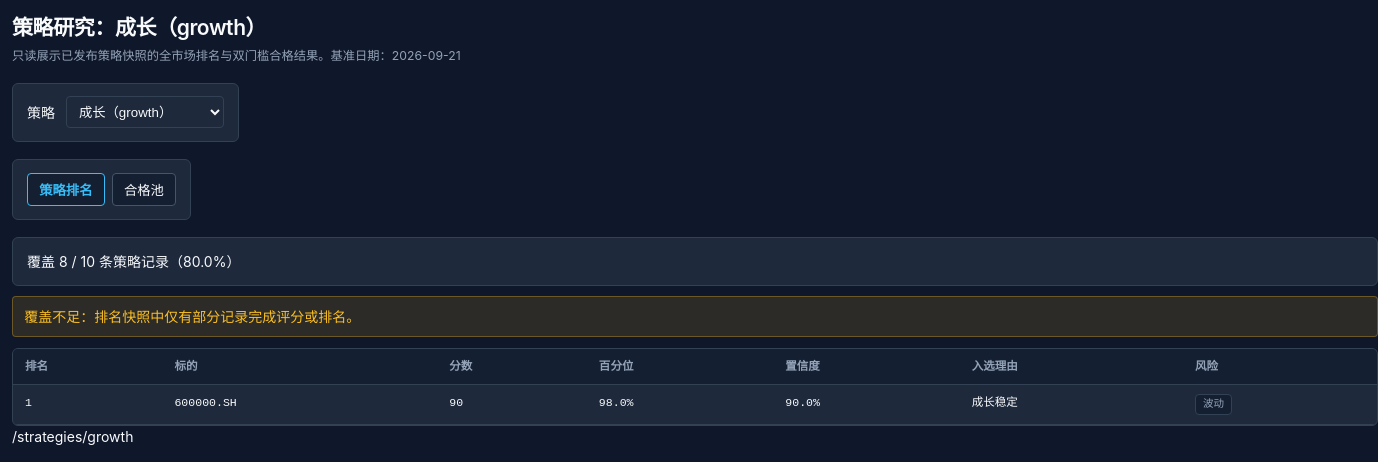
it: StrategyPage › shows ranking and qualified tabs using their respective API results
Expected: the link "600000.SH" is shown, [174,396,237,409]
Expected: the text "90" is shown, [437,385,587,424]
What coordinates should you click on to do the following:
click the tab "合格池"
I would click on:
 (144, 190)
Its box is [112,173,176,206].
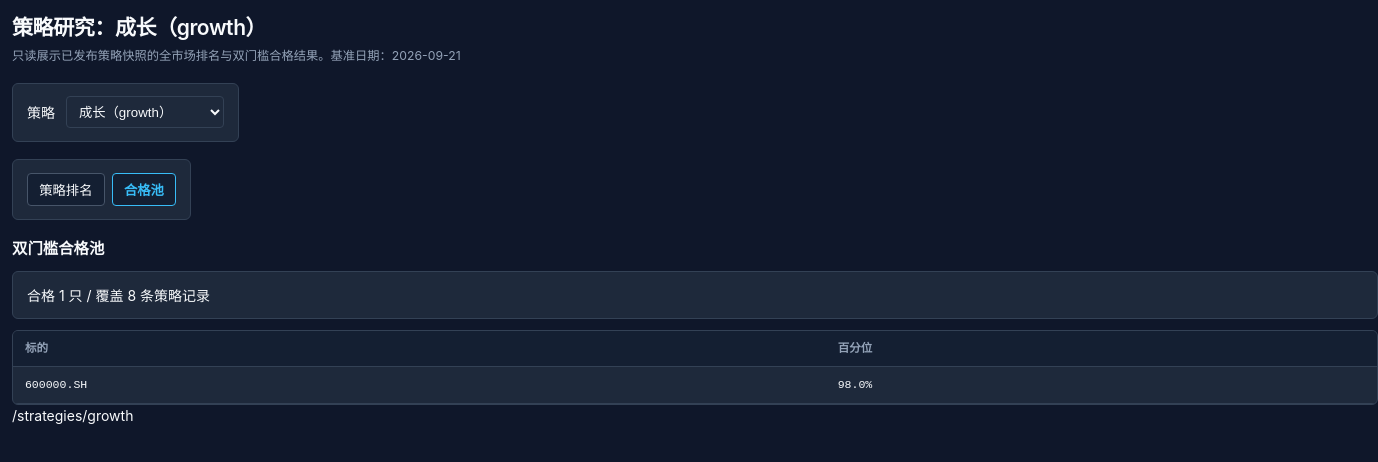
Expected: the heading "双门槛合格池" is shown, [12,239,104,258]
